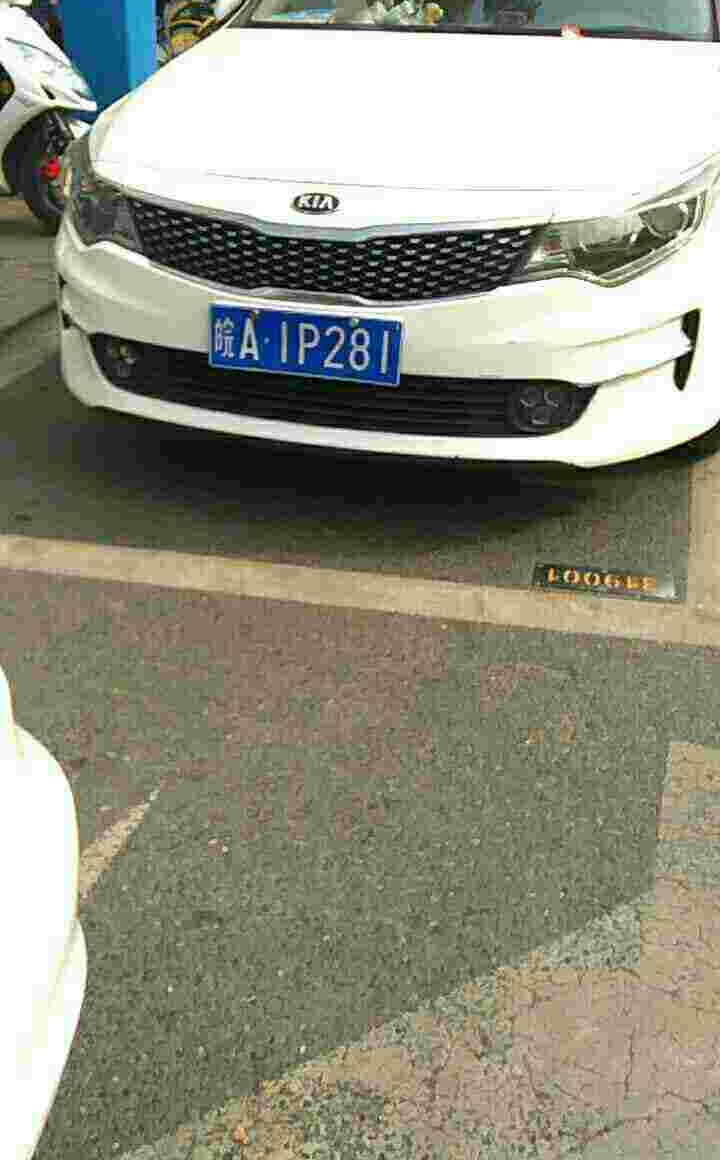license_plate: (204, 297, 409, 395)
